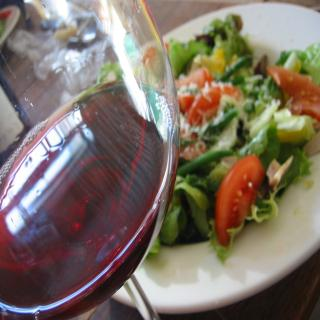tomato: (210, 156, 280, 245), (180, 68, 241, 138), (267, 66, 320, 122)
